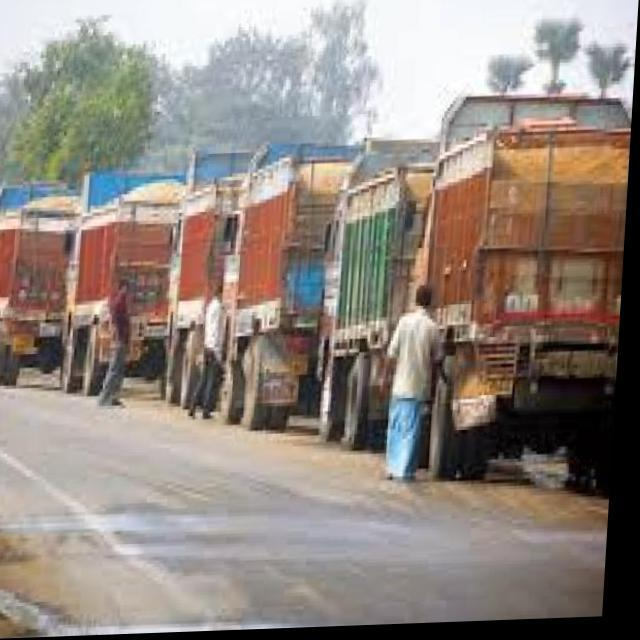uncovered: (321, 140, 513, 419), (450, 82, 636, 360), (247, 136, 370, 337), (64, 160, 186, 361), (152, 148, 274, 349), (0, 174, 91, 376)
